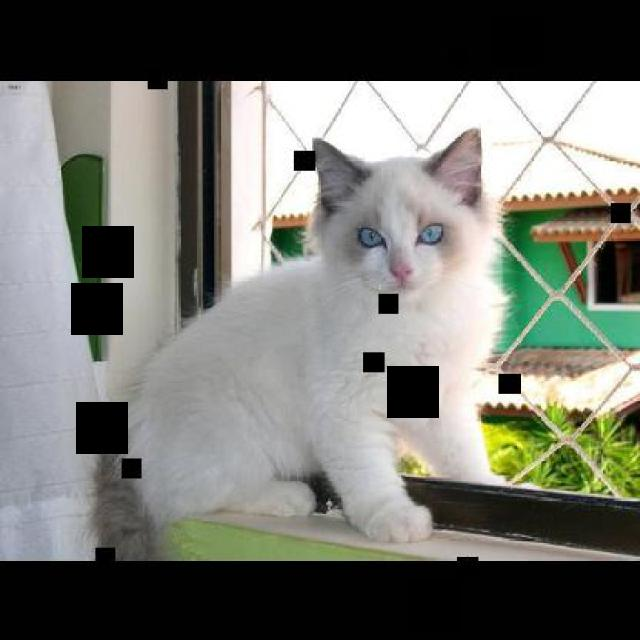unauthorized: (90, 126, 536, 559)
